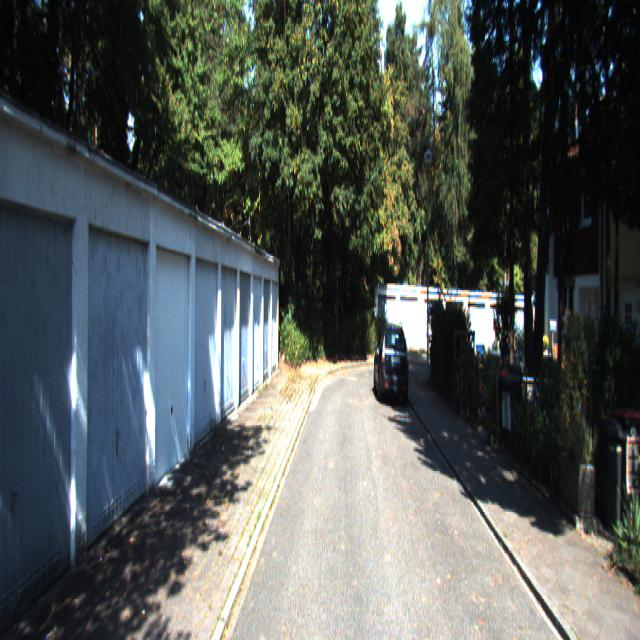Car: (372, 318, 408, 401)
